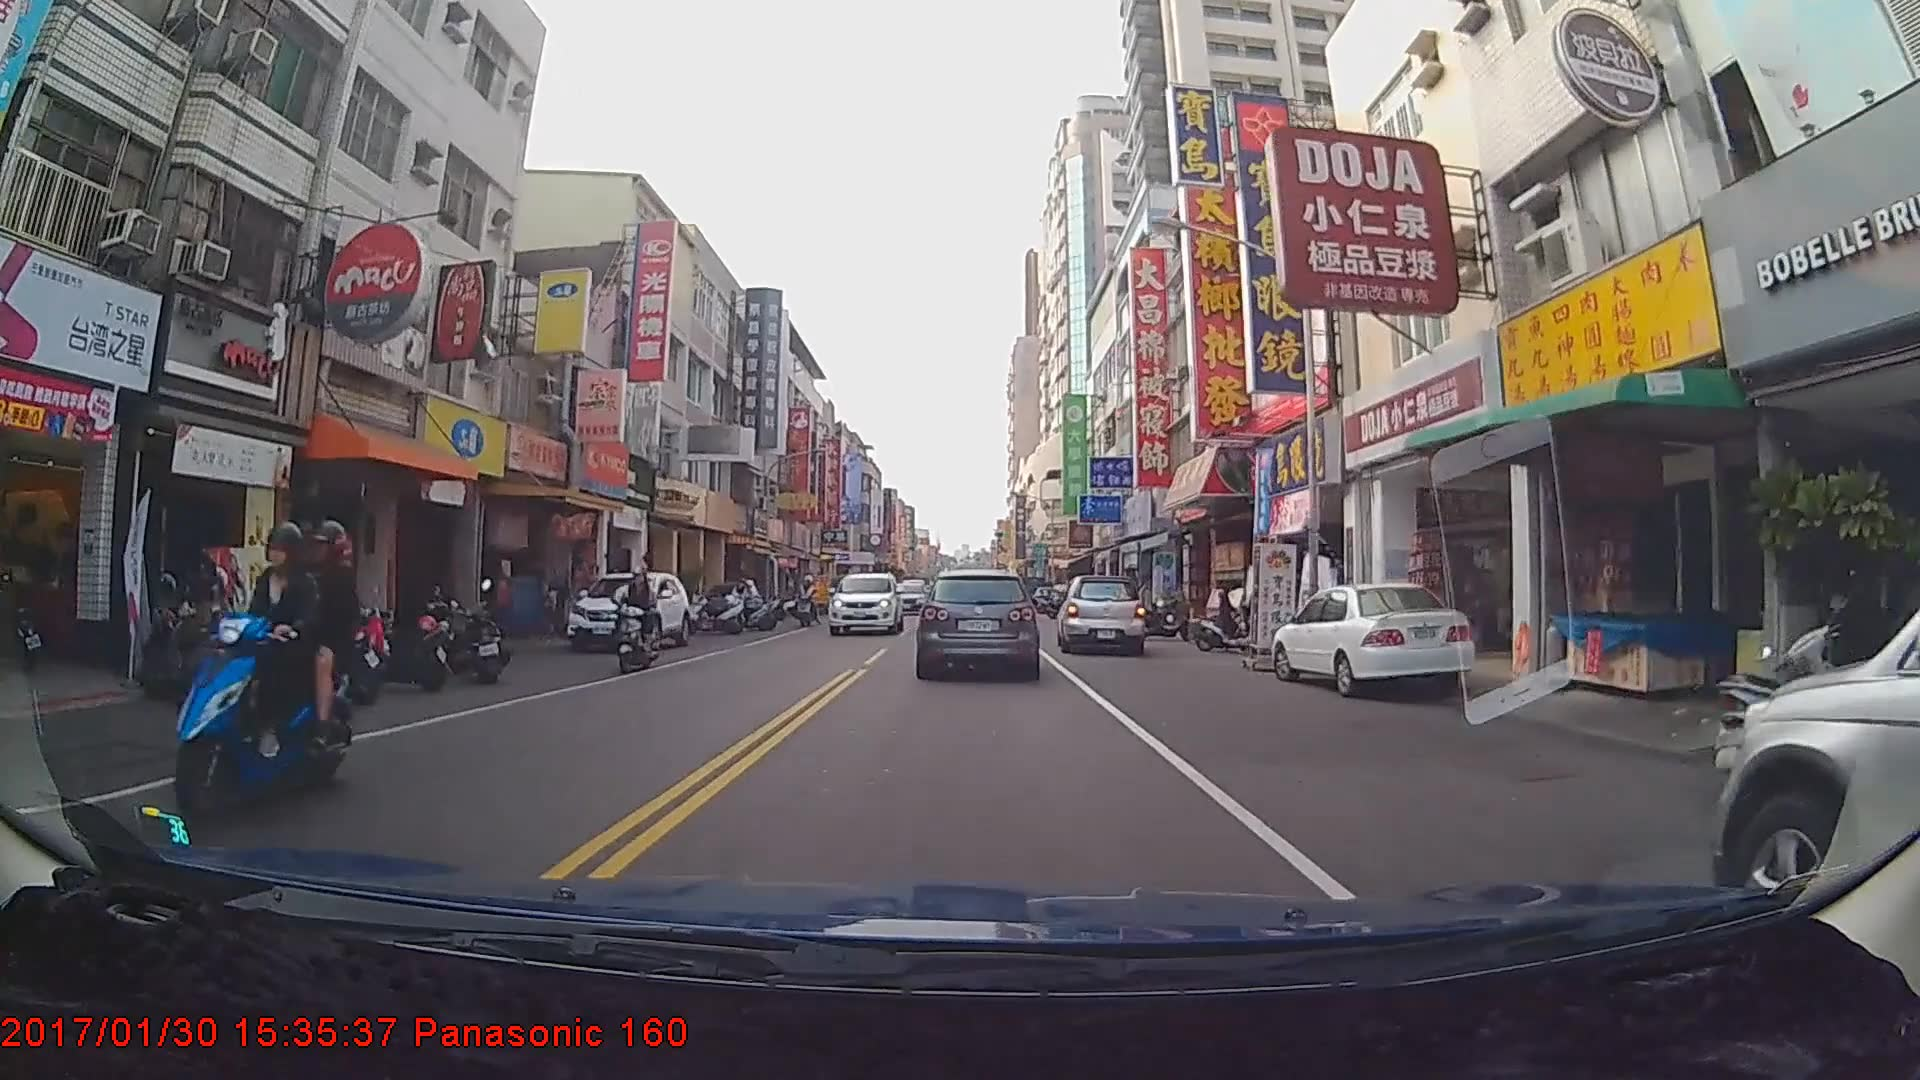rider: (155, 507, 353, 822), (613, 568, 666, 676), (1194, 583, 1269, 658)
vehicle: (1711, 482, 1919, 1040), (1272, 581, 1471, 694), (918, 569, 1037, 676), (563, 572, 691, 654), (1058, 576, 1146, 657), (827, 569, 903, 635), (889, 579, 929, 612)
